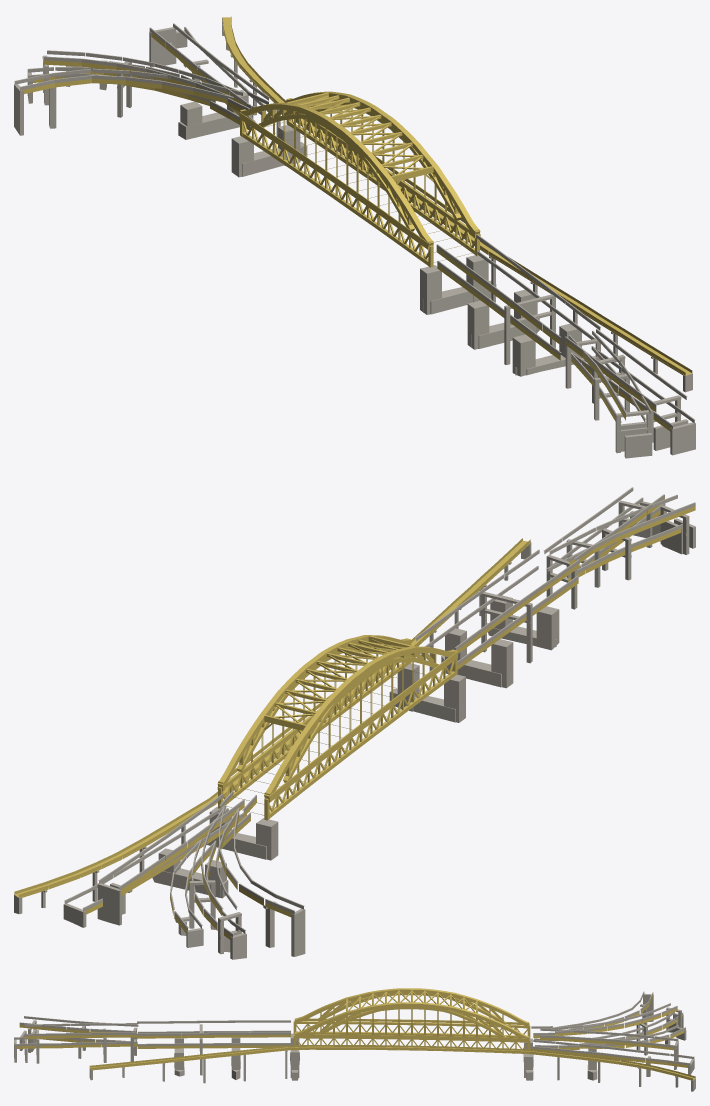
File: pit-fort-duquesne-bridge.detail.glb
The picture shows the model from 3 angles, top to bottom: view 1: azimuth 30°, elevation 25°; view 2: azimuth 150°, elevation 25°; view 3: azimuth 270°, elevation 25°; orthographic projection. The views are drawn at different scales.
Visible parts, largest first — view 1: Fort Duquesne Bridge; view 2: Fort Duquesne Bridge; view 3: Fort Duquesne Bridge.
Part boxes in pixels (x1=…): Fort Duquesne Bridge: x1=14, y1=16, x2=695, y2=458; Fort Duquesne Bridge: x1=14, y1=487, x2=695, y2=959; Fort Duquesne Bridge: x1=14, y1=988, x2=695, y2=1091.
Bounding box in the file's own units: 100 × 44.62 × 379.
